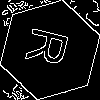R: (25, 25, 79, 71)
